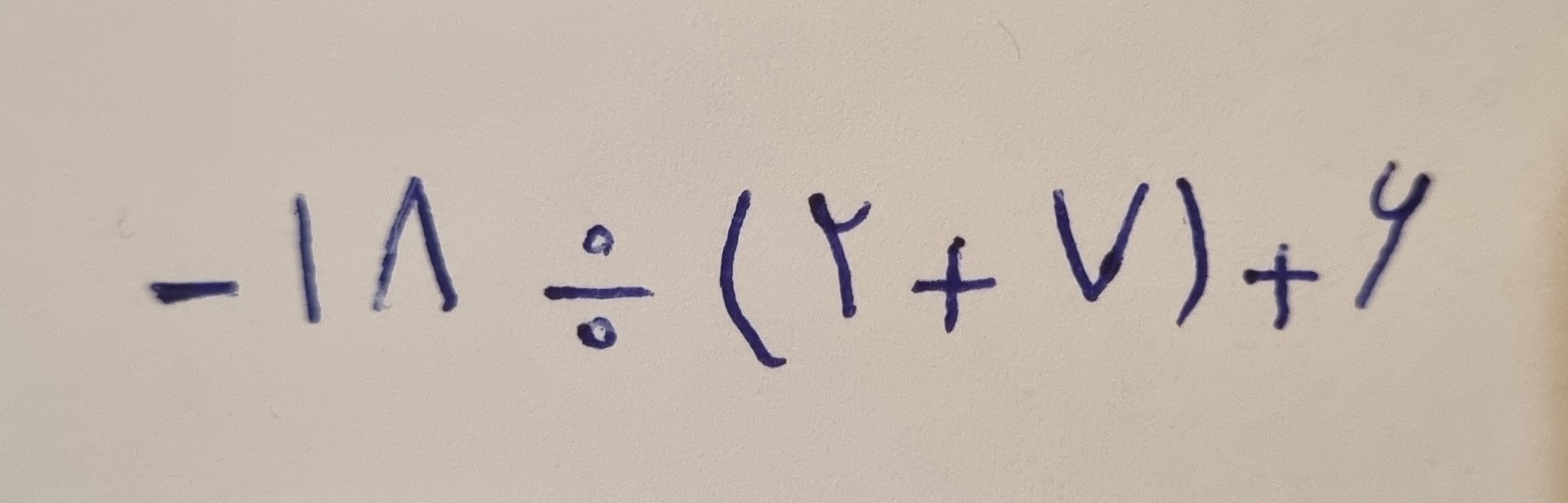character: (541, 222, 657, 353), (717, 187, 791, 371), (1350, 157, 1436, 313), (1047, 181, 1154, 306), (372, 174, 461, 319), (910, 234, 1002, 341), (806, 189, 876, 321), (1240, 239, 1323, 333), (1169, 174, 1213, 329), (291, 192, 328, 326), (147, 281, 240, 314)
